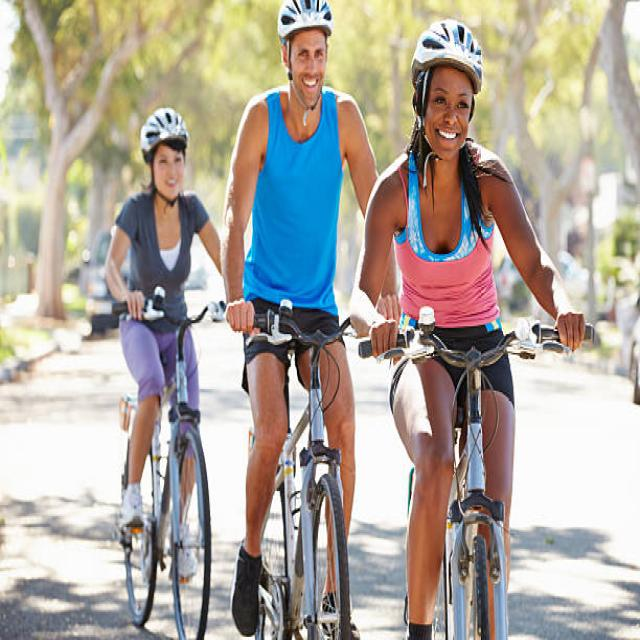helmet: (384, 0, 542, 226), (145, 7, 242, 296), (261, 0, 385, 223)
